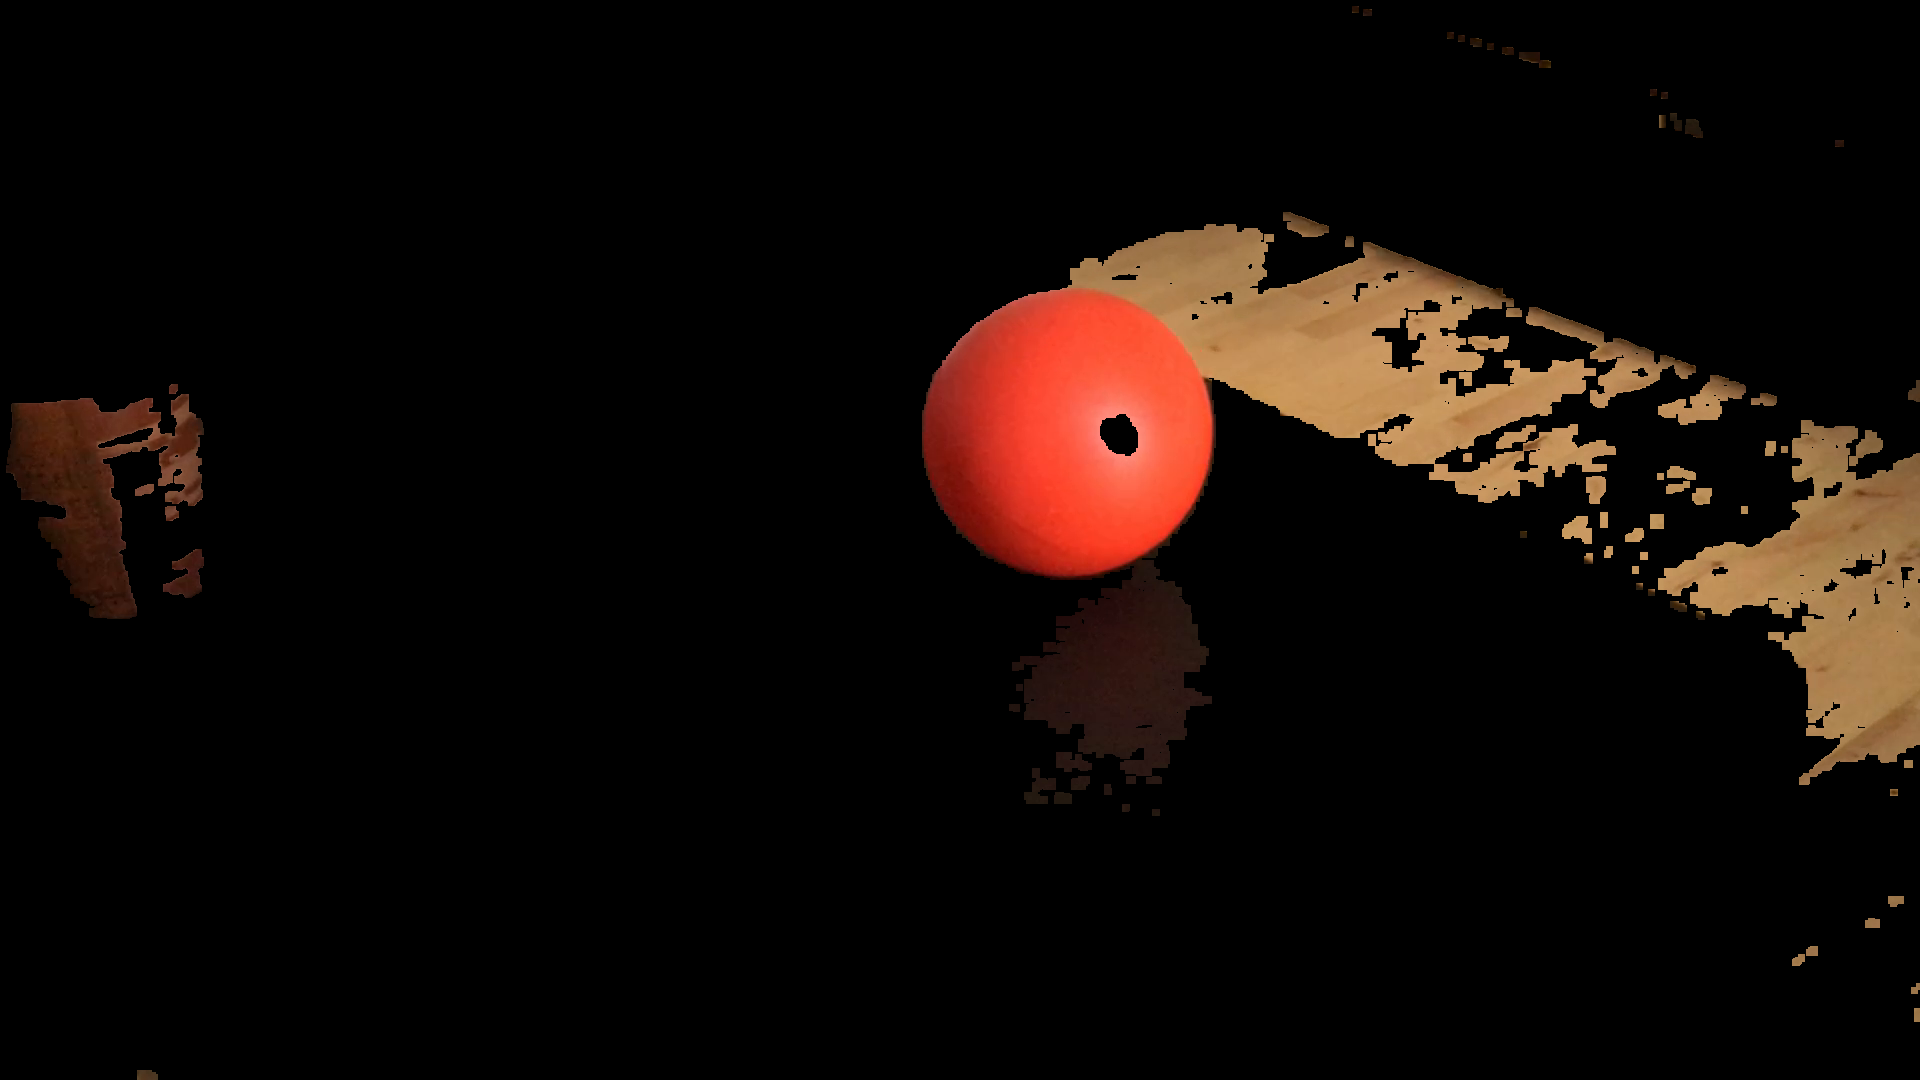Ball: (923, 284, 1211, 574)
